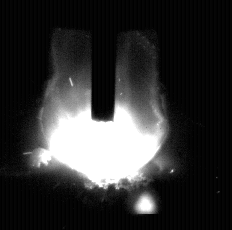arame: (92, 0, 116, 122)
poca: (39, 0, 170, 230)
